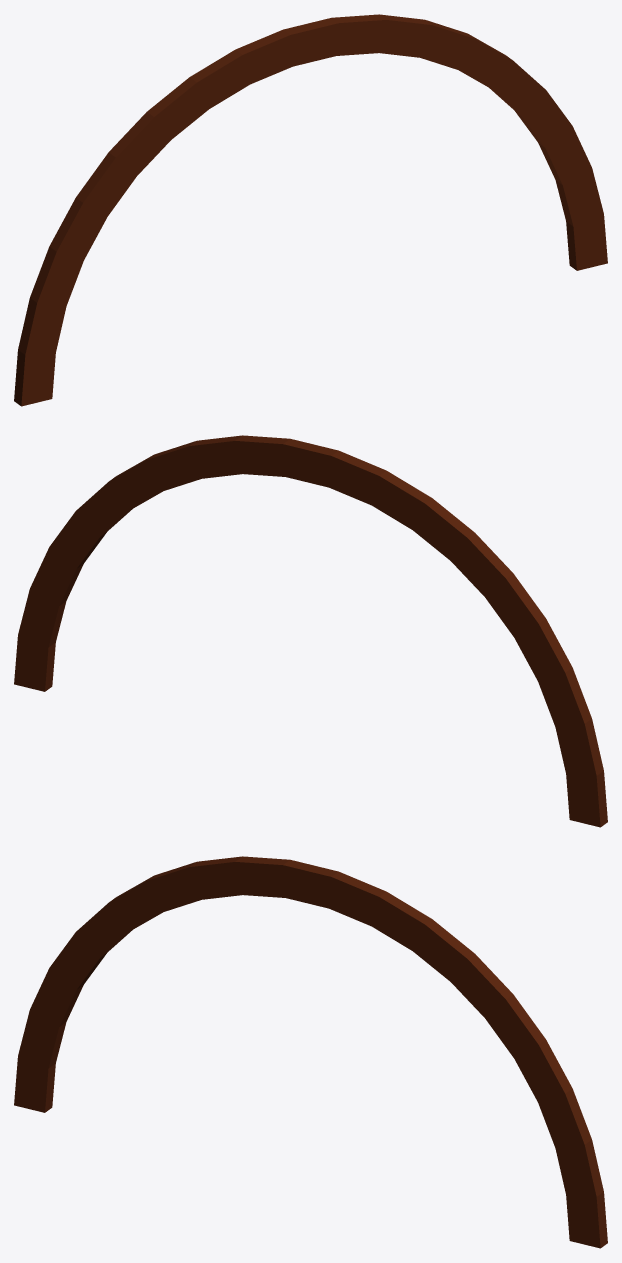
The model's file is Arch.fbx.
The picture shows the model from 3 angles, top to bottom: view 1: azimuth 30°, elevation 25°; view 2: azimuth 150°, elevation 25°; view 3: azimuth 330°, elevation 25°; orthographic projection.
Visible parts, largest first — view 1: Arch; view 2: Arch; view 3: Arch.
Part boxes in pixels (bbox=[...]): Arch: bbox=[14, 14, 607, 406]; Arch: bbox=[14, 435, 607, 827]; Arch: bbox=[14, 856, 607, 1248].
Size of the model in its own units: 1794 by 894 by 39.06.
